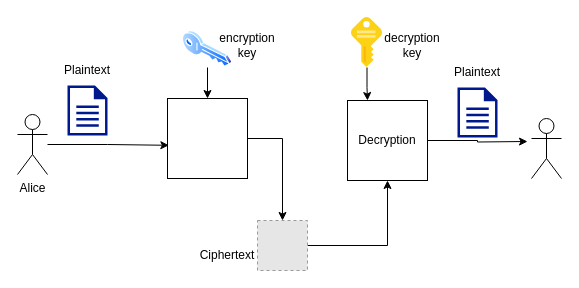
This 579x288 diagram has some shape labels left out. Grey dashed boxes stand in for pictures. Here are the shapes that lost their labels. From the top down, the centre of each, then its label:
(x=207, y=138): Encryption
(x=546, y=148): Bob
